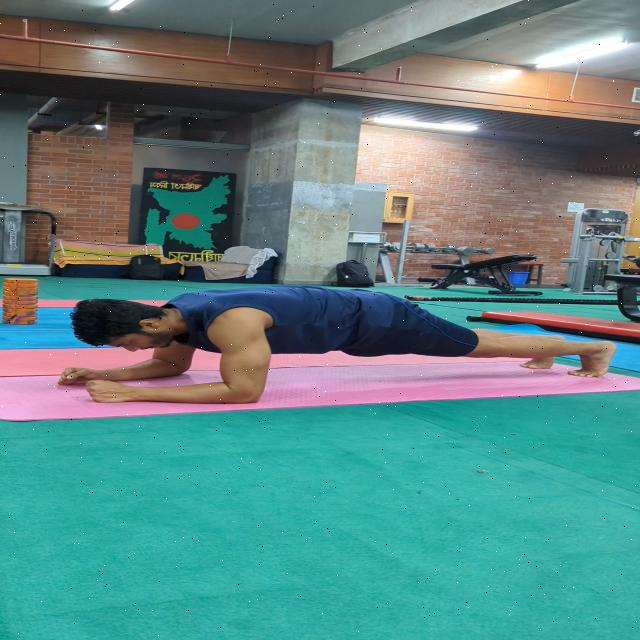Normal_Plunk: (54, 276, 616, 432)
